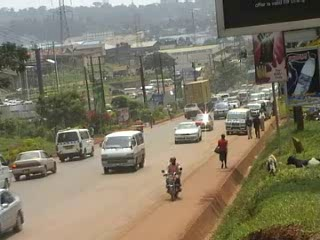Car: (11, 147, 58, 181), (0, 185, 26, 238), (172, 118, 204, 144), (192, 111, 214, 132), (182, 107, 203, 121), (227, 97, 239, 109)
Motorcycle: (159, 155, 185, 203), (131, 115, 143, 134)
